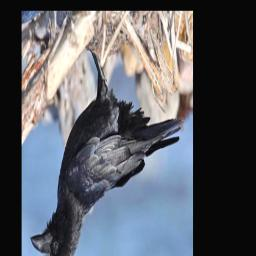Crow: (30, 41, 184, 256)
